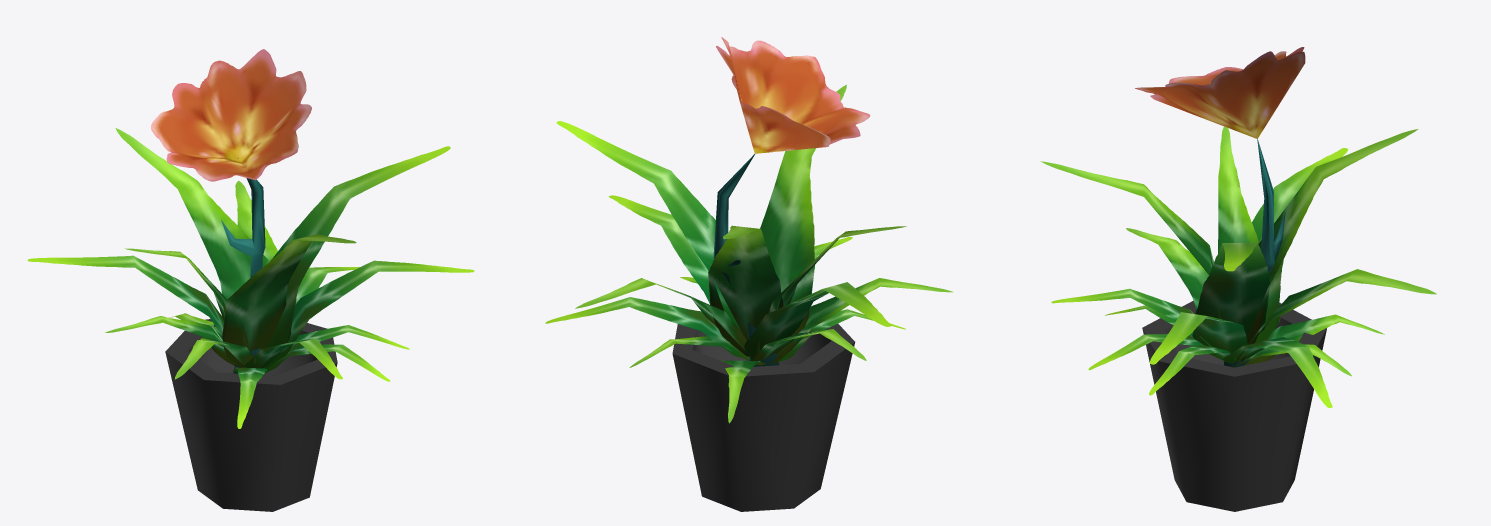
File: SM_PROP_PLANT_pot_v3_02.FBX
3 views of the same model, side by side, from view 1: azimuth 30°, elevation 25°; view 2: azimuth 150°, elevation 25°; view 3: azimuth 270°, elevation 25° (orthographic). The views are drawn at different scales.
Visible parts, largest first — view 1: SM_PROP_PLANT_pot_v3_02; view 2: SM_PROP_PLANT_pot_v3_02; view 3: SM_PROP_PLANT_pot_v3_02.
Part boxes in pixels (left/top/right/bottom): SM_PROP_PLANT_pot_v3_02: left=27, top=49, right=474, bottom=511; SM_PROP_PLANT_pot_v3_02: left=545, top=37, right=953, bottom=511; SM_PROP_PLANT_pot_v3_02: left=1040, top=47, right=1436, bottom=511.
Bounding box in the file's own units: 123 × 116 × 130.
